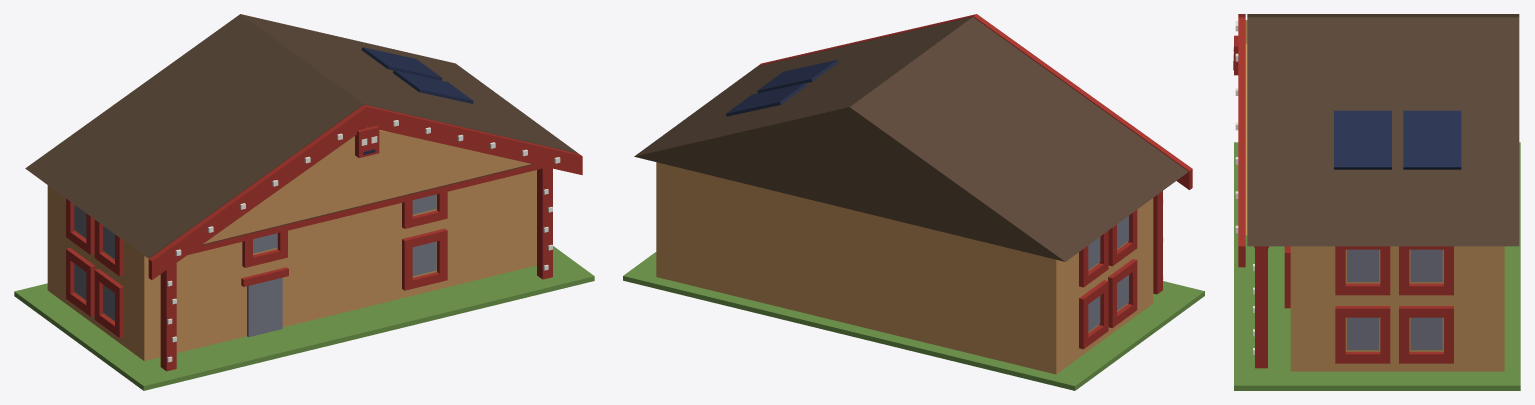
File: house-2x1-2f-whare-a-solar.glb
3 views of the same model, side by side, from view 1: azimuth 30°, elevation 25°; view 2: azimuth 150°, elevation 25°; view 3: azimuth 270°, elevation 25° (orthographic). The views are drawn at different scales.
Visible parts, largest first — view 1: house-2x1-2f-whare-a-solar; view 2: house-2x1-2f-whare-a-solar; view 3: house-2x1-2f-whare-a-solar.
Part boxes in pixels (x1,y1,x2,y2): house-2x1-2f-whare-a-solar: (14, 14, 594, 390); house-2x1-2f-whare-a-solar: (623, 14, 1204, 390); house-2x1-2f-whare-a-solar: (1233, 14, 1520, 390).
Size of the model in its own units: 1.99 by 0.96 by 0.993.
Materials: 1 (1 with a texture image).
